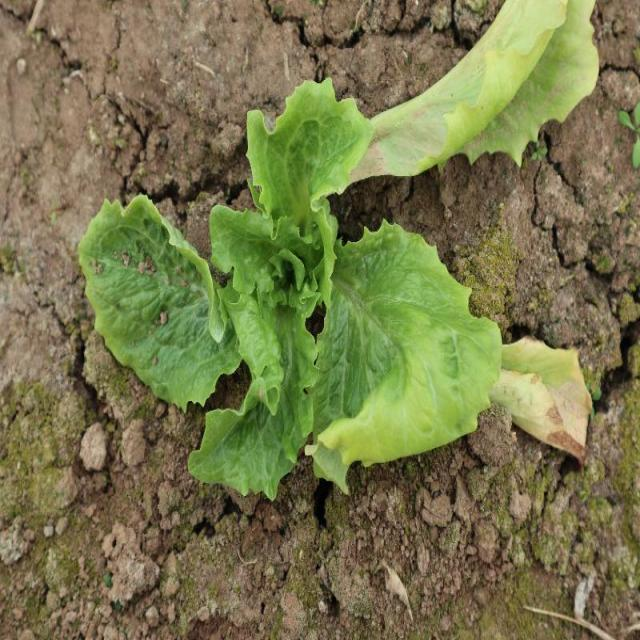crop: (77, 76, 505, 498)
